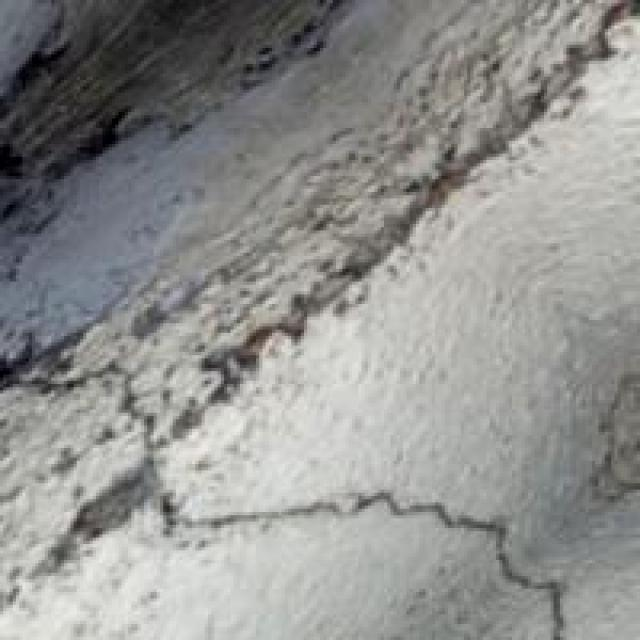crack: (2, 330, 580, 640)
